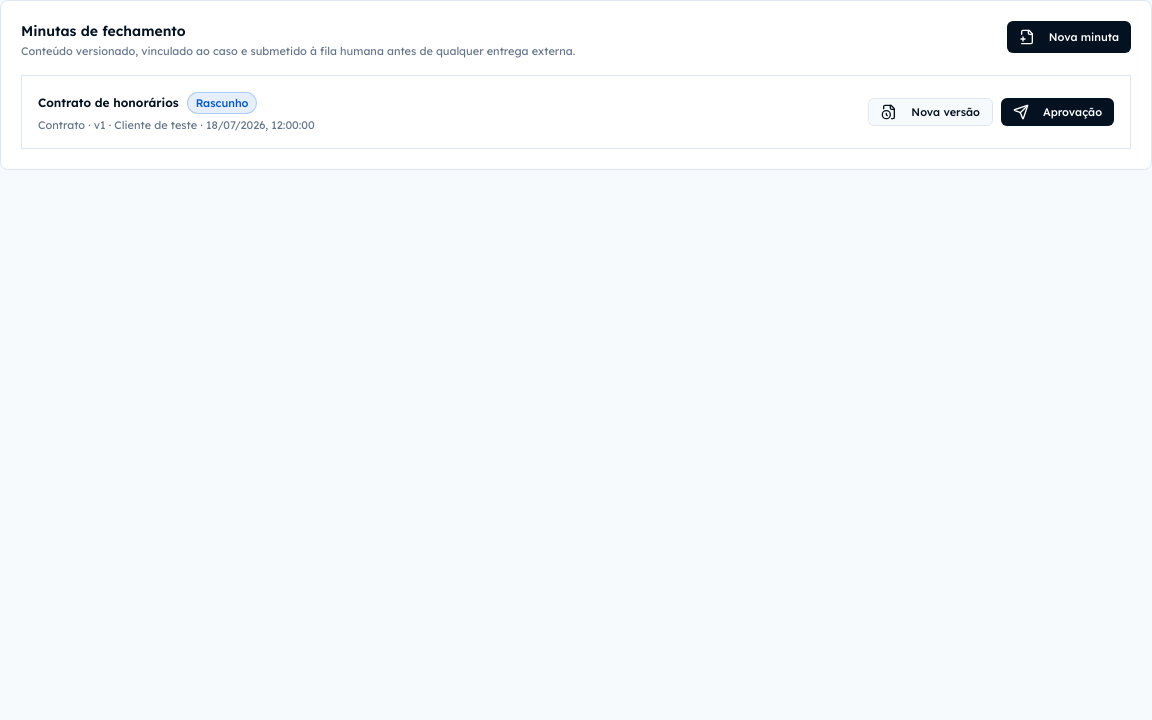
it: native legal workflows › creates an immutable next artifact version and submits that exact version
Later steps or results of the test are not shown.
Click the button "Nova versão" at (931, 112), box x1=868 y1=98 x2=993 y2=126
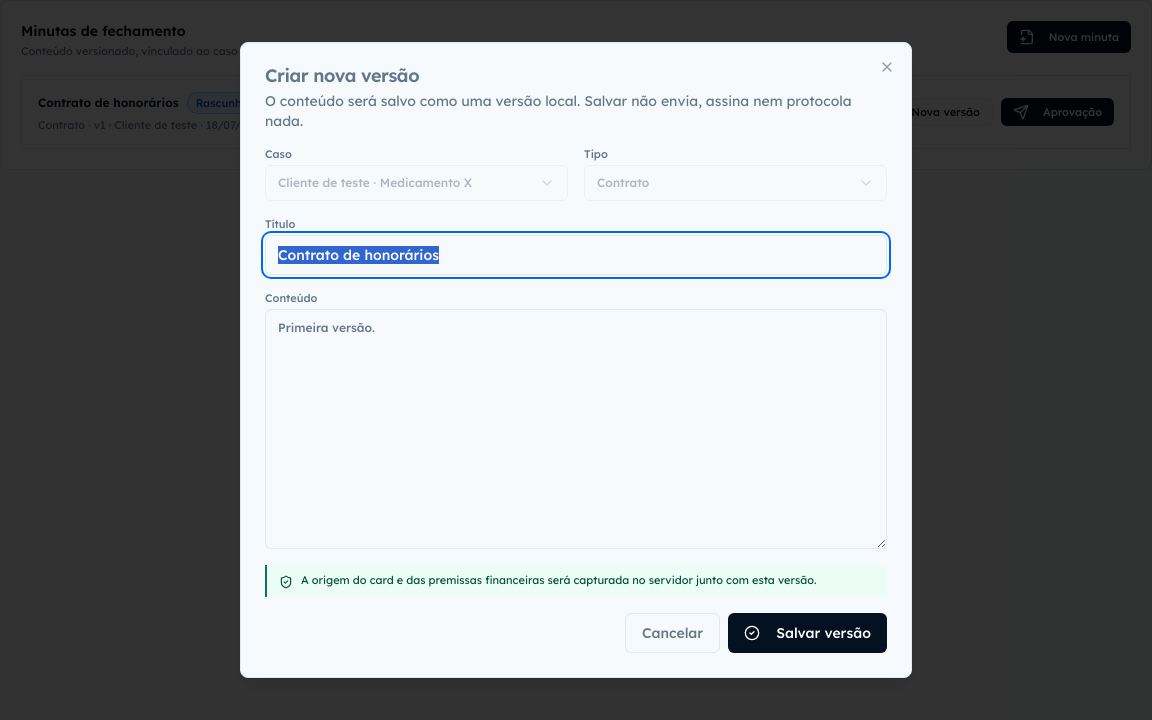
Replace the text in the field labelled "Título" with "Contrato revisado" at (576, 255), box x1=265 y1=235 x2=887 y2=275
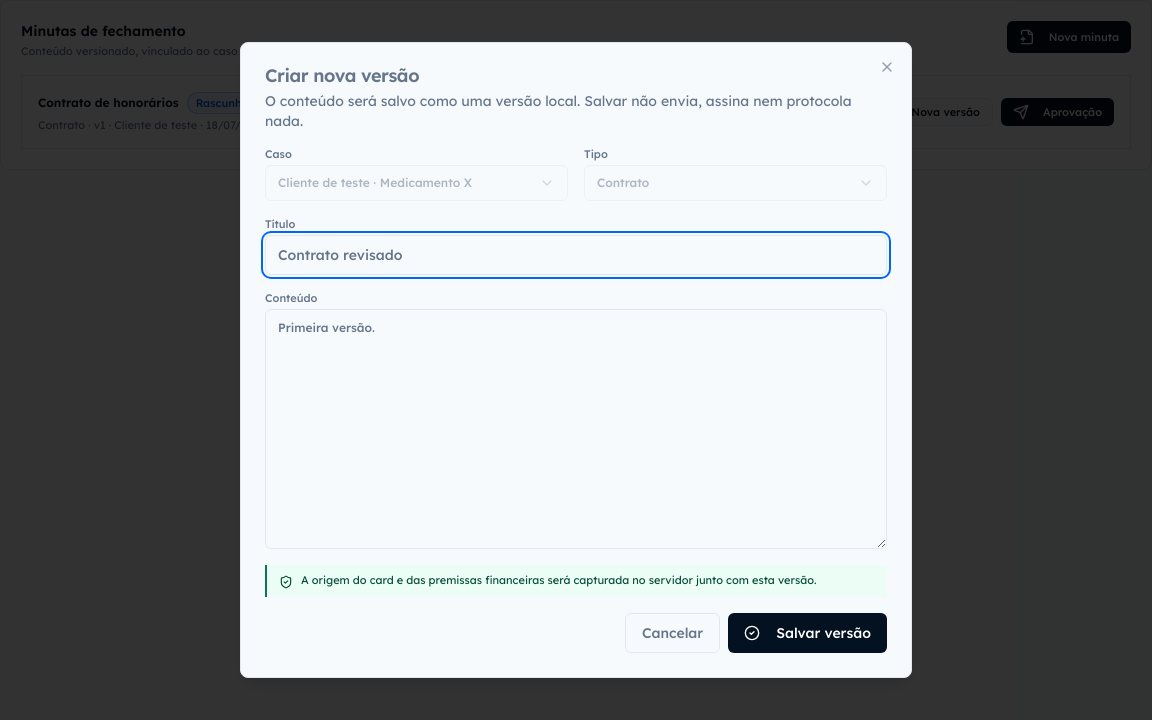
Replace the text in the text box labelled "Conteúdo" with "Segunda versão auditável." at (576, 429), box x1=265 y1=309 x2=887 y2=549
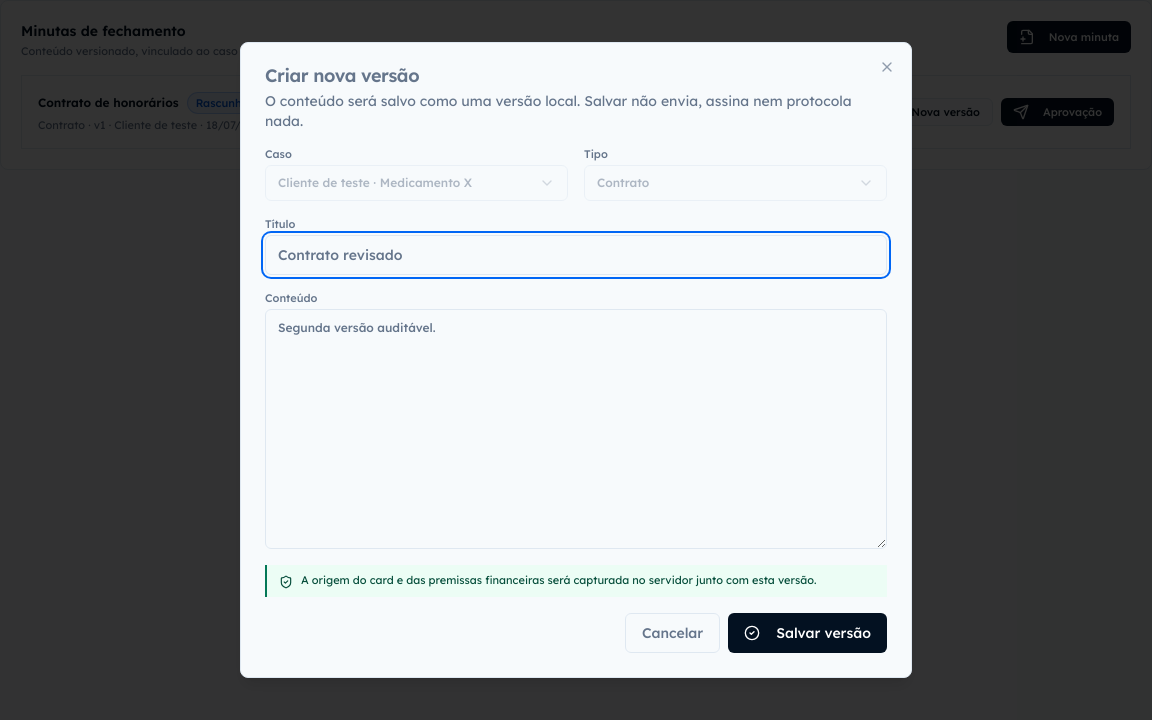
Click the button "Salvar versão" at (808, 633), box x1=728 y1=613 x2=887 y2=653
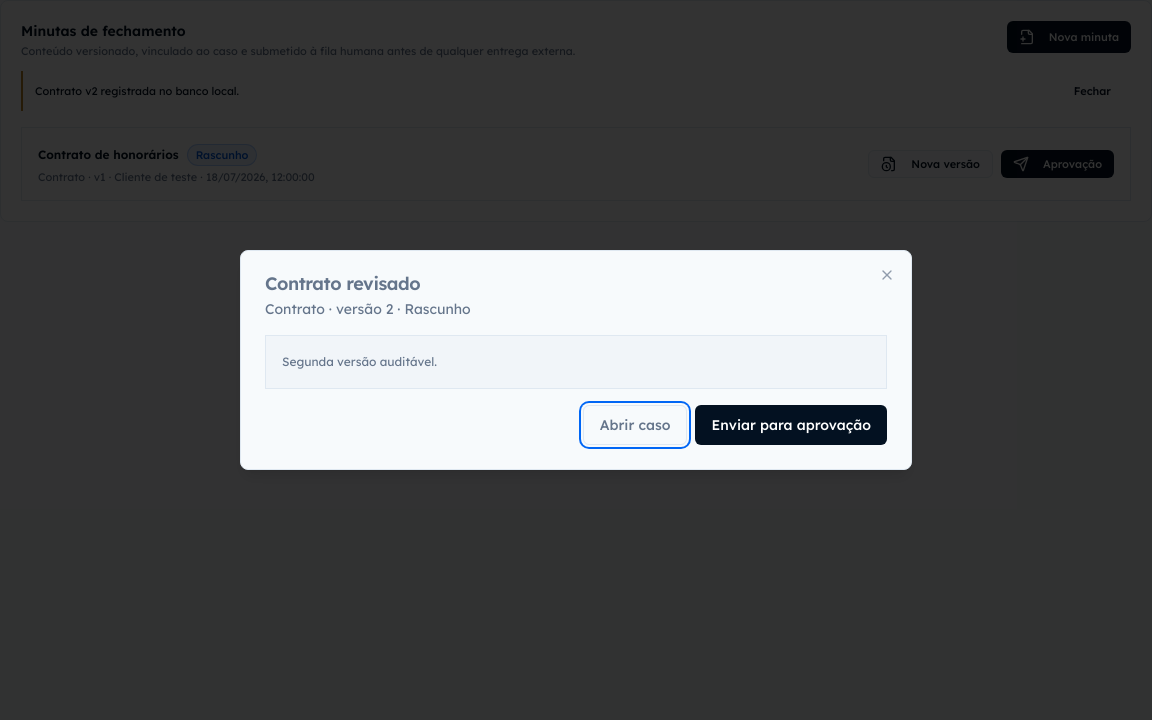
Result: the text "Contrato v2 registrada no banco local." is shown at x1=35 y1=84 x2=239 y2=98
